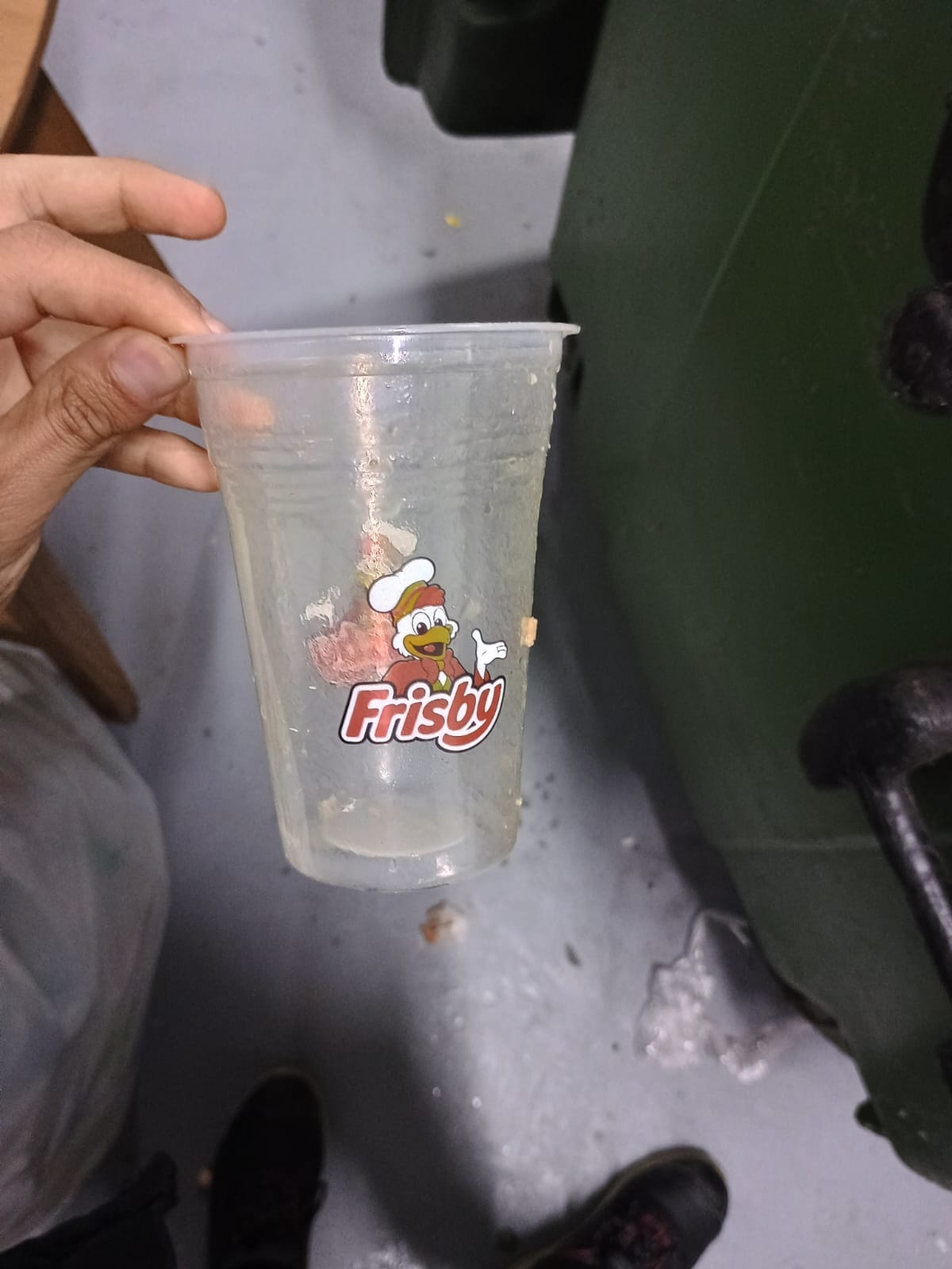Plastico: (170, 324, 579, 894)
